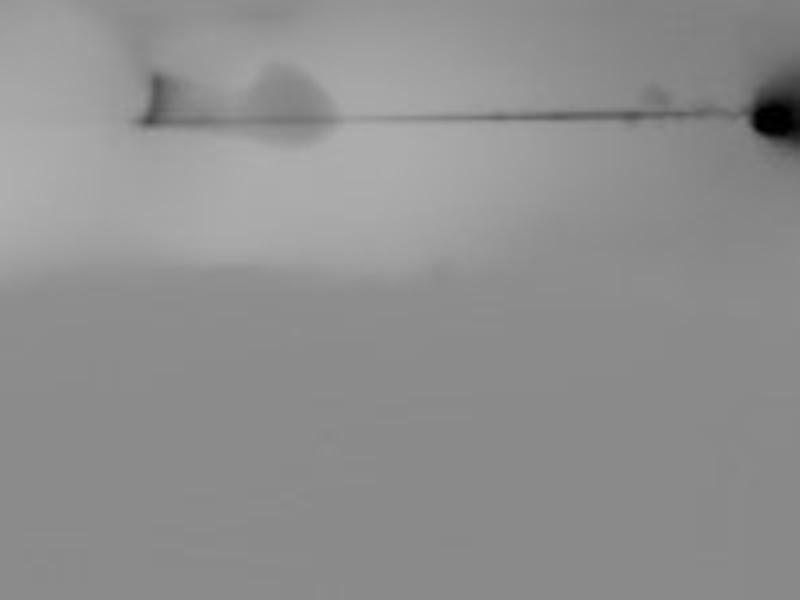defect: (246, 71, 333, 150), (752, 97, 799, 142)
